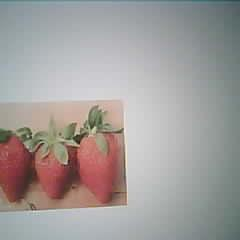straw-ripe: (78, 131, 117, 202), (36, 136, 70, 197), (0, 134, 30, 201)
